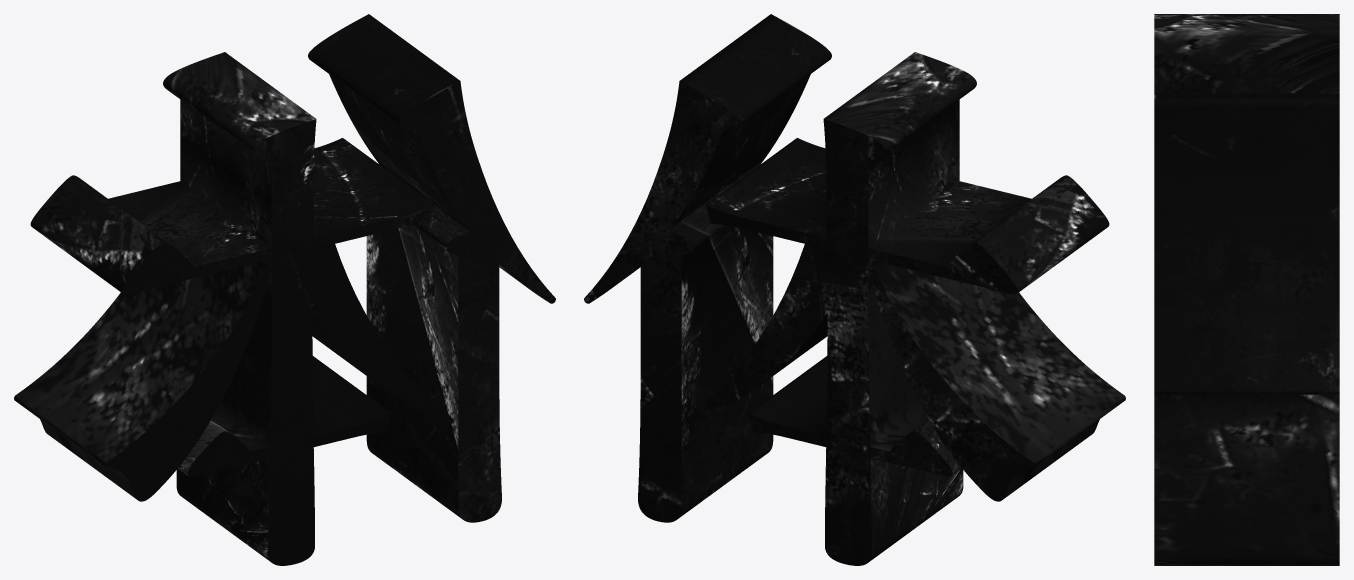
Rendered from TAI.obj.
3 views of the same model, side by side, from view 1: azimuth 30°, elevation 25°; view 2: azimuth 150°, elevation 25°; view 3: azimuth 270°, elevation 25° (orthographic).
Parts seen in each view (by area): view 1: tai; view 2: tai; view 3: tai.
Part boxes in pixels (x1,y1,x2,y2): tai: (14,14,555,565); tai: (584,14,1125,565); tai: (1154,14,1339,565).
Bounding box in the file's own units: 5.68 × 5.37 × 2.
1 material, 1 textured.
